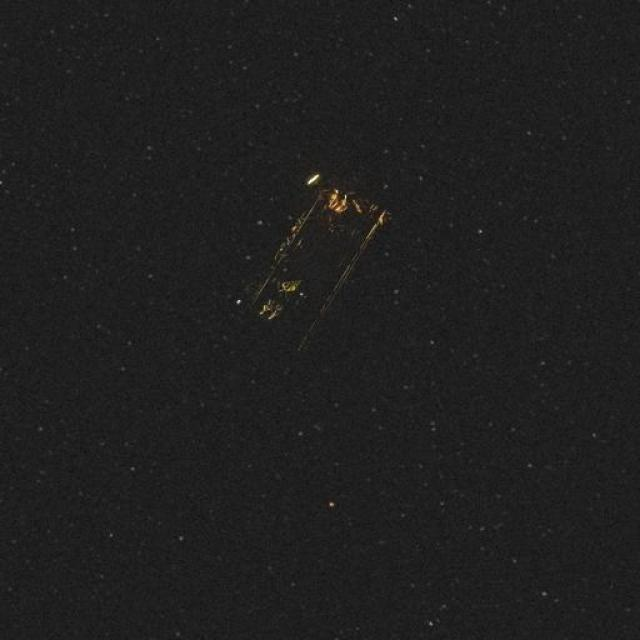lisa_pathfinder: (226, 152, 419, 358)
